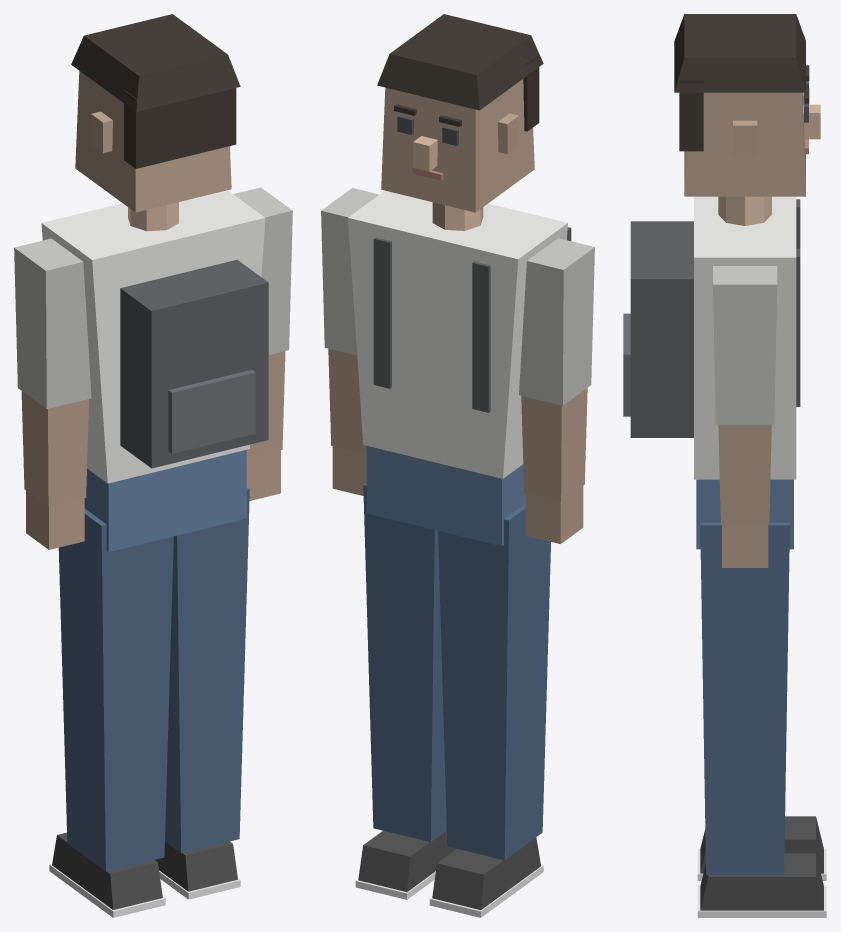
The model's file is man_backpack.glb.
The picture shows the model from 3 angles, left to right: view 1: azimuth 30°, elevation 25°; view 2: azimuth 150°, elevation 25°; view 3: azimuth 270°, elevation 25°; orthographic projection. The views are drawn at different scales.
Visible parts, largest first — view 1: Torso, LegMesh, LegMesh2, HeadMesh, ArmMesh, ArmMesh2; view 2: Torso, LegMesh, LegMesh2, HeadMesh, ArmMesh, ArmMesh2; view 3: Torso, LegMesh2, HeadMesh, ArmMesh2, LegMesh.
Boxes of the visible parts, x1,y1,x2,y2 form: Torso: (41, 190, 268, 551); LegMesh: (49, 509, 173, 917); LegMesh2: (155, 487, 249, 899); HeadMesh: (71, 14, 240, 212); ArmMesh: (14, 238, 91, 549); ArmMesh2: (233, 187, 292, 500); Torso: (348, 190, 571, 546); LegMesh: (429, 503, 550, 917); LegMesh2: (355, 482, 456, 899); HeadMesh: (377, 14, 543, 212); ArmMesh: (519, 238, 594, 543); ArmMesh2: (321, 188, 379, 495); Torso: (623, 196, 800, 549); LegMesh2: (697, 522, 826, 917); HeadMesh: (674, 14, 820, 196); ArmMesh2: (713, 266, 777, 567); LegMesh: (697, 816, 826, 880).
Bounding box in the file's own units: 0.591 × 1.93 × 0.4175.
